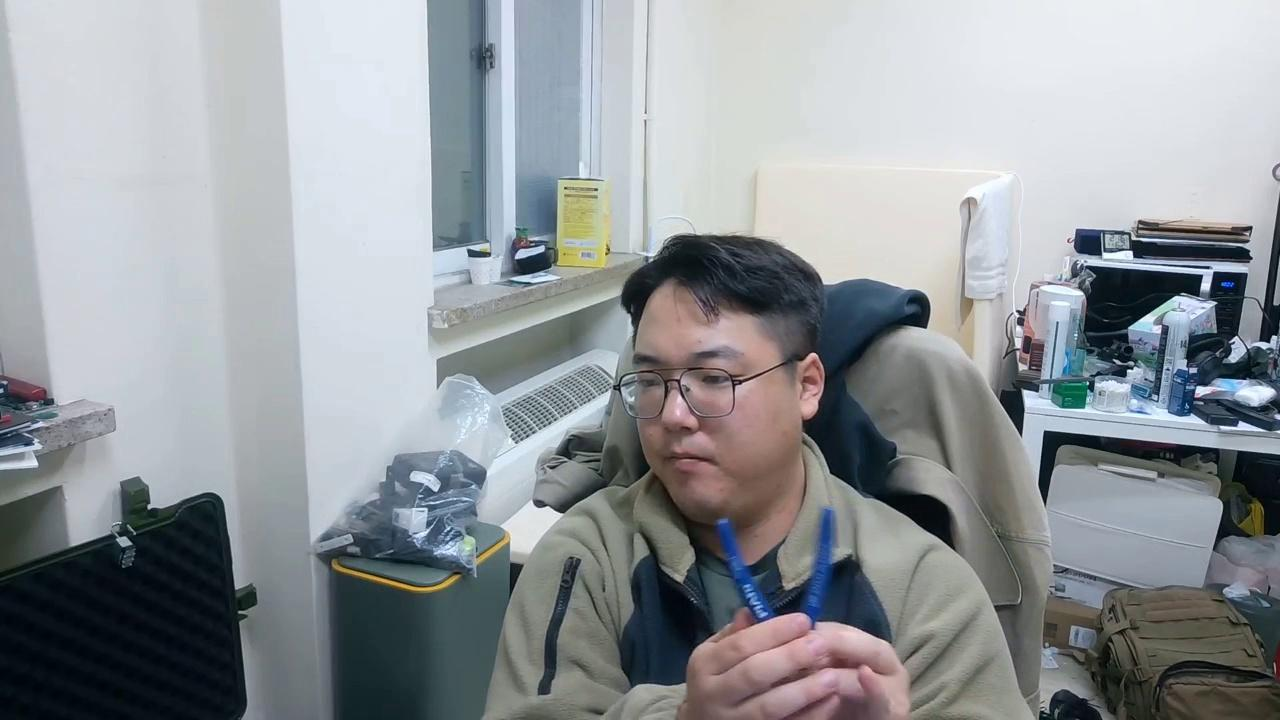blue_pliers: (714, 506, 840, 632)
